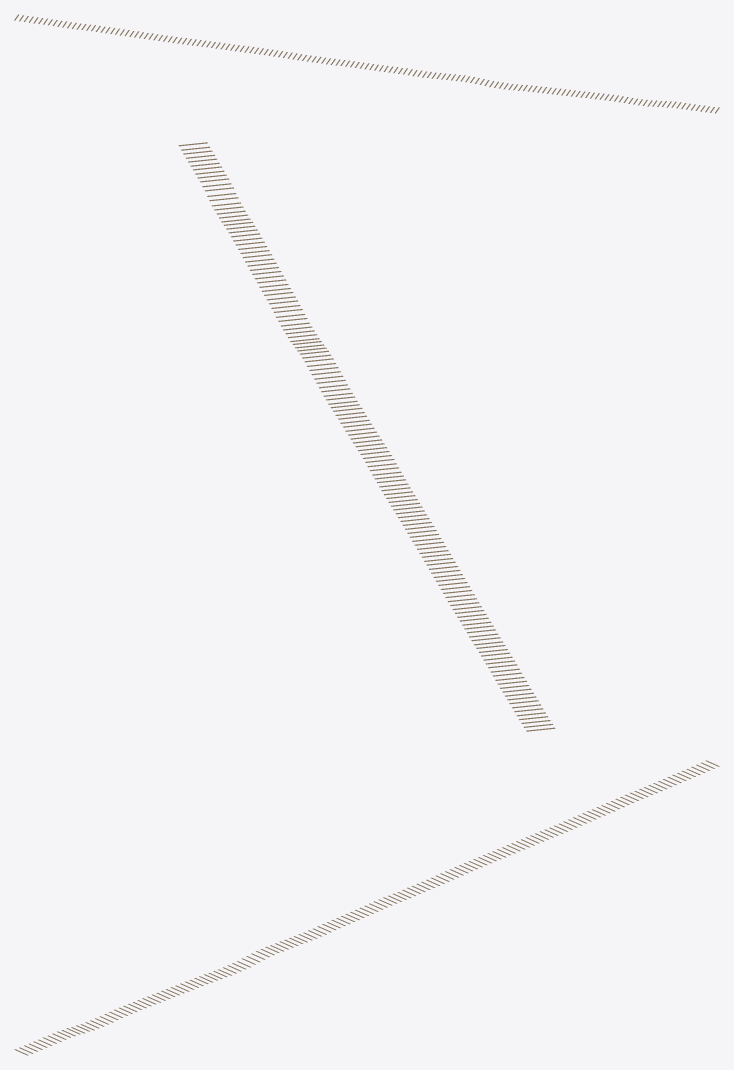
File: c_1624_17826_rail_sleeper.glb
3 renders of one model, top to bottom at view 1: azimuth 30°, elevation 25°; view 2: azimuth 150°, elevation 25°; view 3: azimuth 270°, elevation 25°, orthographic. The views are drawn at different scales.
Visible parts, largest first — view 1: geometry_0; view 2: geometry_0; view 3: geometry_0.
Part boxes in pixels (box(x1,y1,x2,y2)): geometry_0: box(14, 14, 719, 113); geometry_0: box(178, 142, 555, 731); geometry_0: box(14, 760, 719, 1055).
Size of the model in its own units: 82.69 by 1.54 by 86.14.
